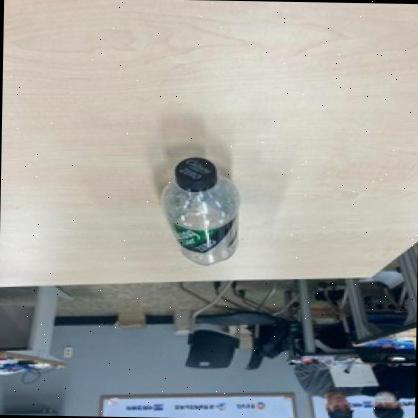bottle: (154, 152, 243, 271)
cap: (171, 150, 223, 193)
label: (160, 219, 247, 259)
